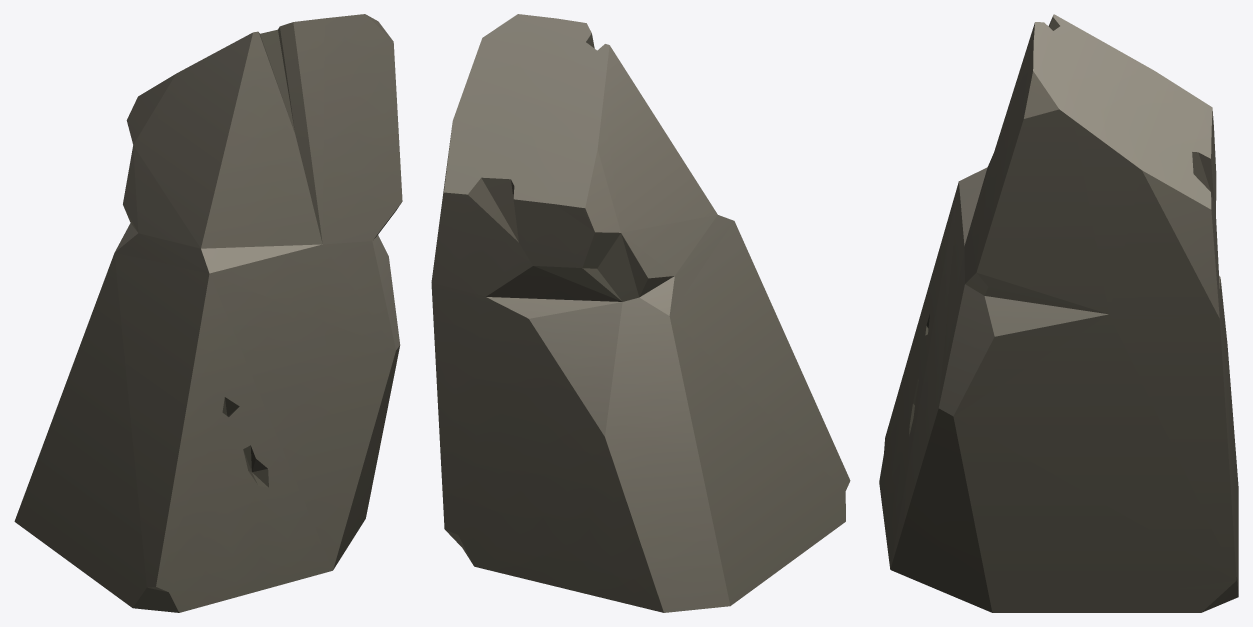
The model's file is Rock_Sharp_3B.fbx.
3 renders of one model, left to right at view 1: azimuth 30°, elevation 25°; view 2: azimuth 150°, elevation 25°; view 3: azimuth 270°, elevation 25°, orthographic. The views are drawn at different scales.
Visible parts, largest first — view 1: Rock_Sharp_3B; view 2: Rock_Sharp_3B; view 3: Rock_Sharp_3B.
Boxes of the visible parts, <box> form: Rock_Sharp_3B: <box>14,14,402,612</box>; Rock_Sharp_3B: <box>431,14,850,612</box>; Rock_Sharp_3B: <box>879,14,1238,612</box>.
Size of the model in its own units: 2.32 by 3.56 by 2.06.
